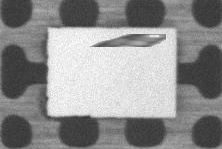DIE_INK: (91, 33, 166, 47)
